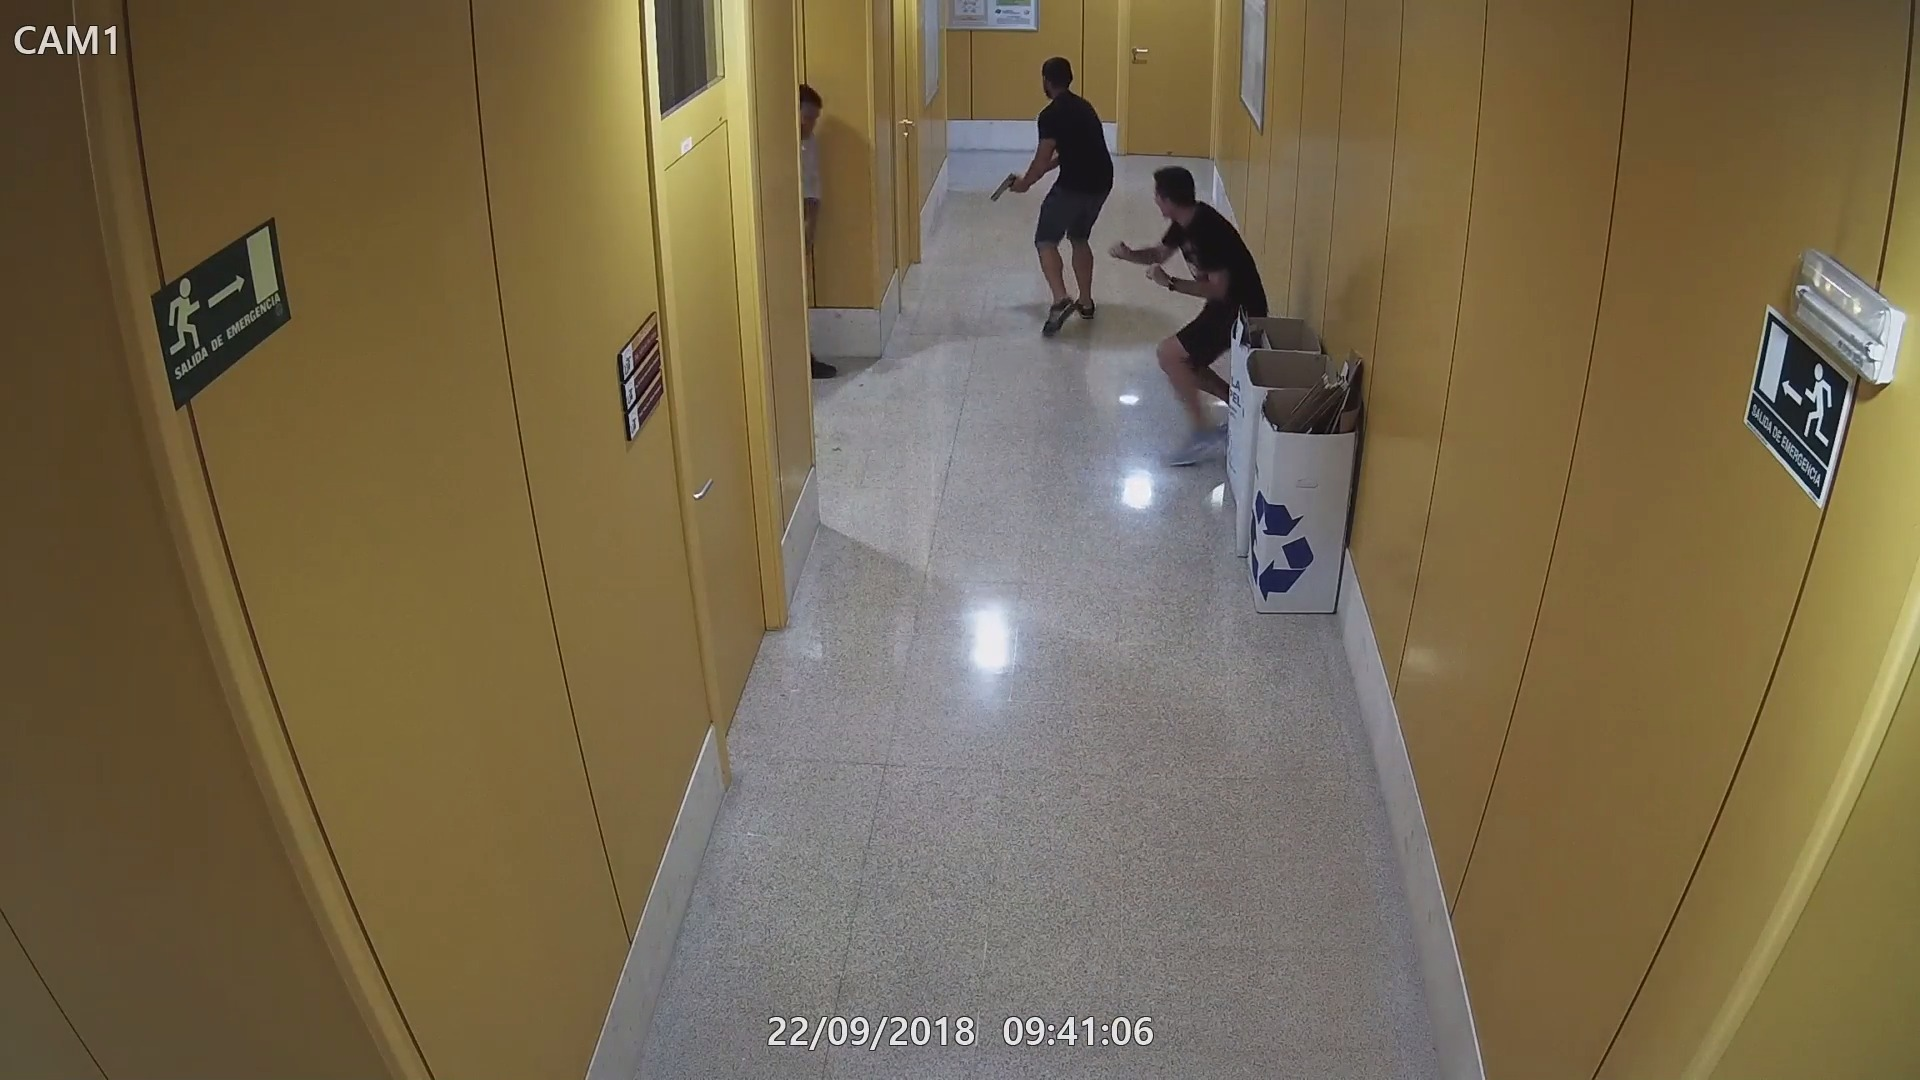Handgun: (990, 167, 1030, 206)
